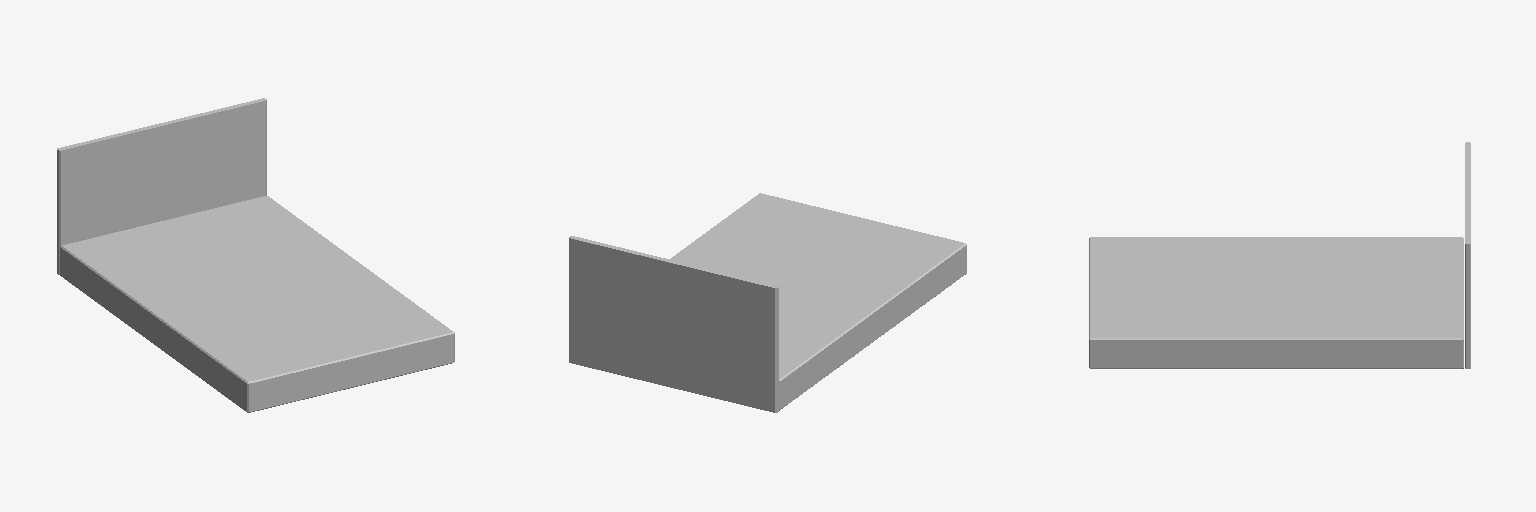
Rendered from bedwood.obj.
3 views of the same model, side by side, from view 1: azimuth 30°, elevation 25°; view 2: azimuth 150°, elevation 25°; view 3: azimuth 270°, elevation 25° (orthographic).
Visible parts, largest first — view 1: Bed:Cube bed, bed Bed:Cube_2; view 2: Bed:Cube bed, bed Bed:Cube_2; view 3: Bed:Cube bed, bed Bed:Cube_2.
Part boxes in pixels (x1,y1,x2,y2): Bed:Cube bed: (60, 196, 454, 412); bed Bed:Cube_2: (57, 98, 266, 274); Bed:Cube bed: (670, 193, 966, 410); bed Bed:Cube_2: (569, 236, 778, 412); Bed:Cube bed: (1089, 237, 1463, 368); bed Bed:Cube_2: (1465, 142, 1470, 368).
Bounding box in the file's own units: 8.94 × 5.15 × 14.23.